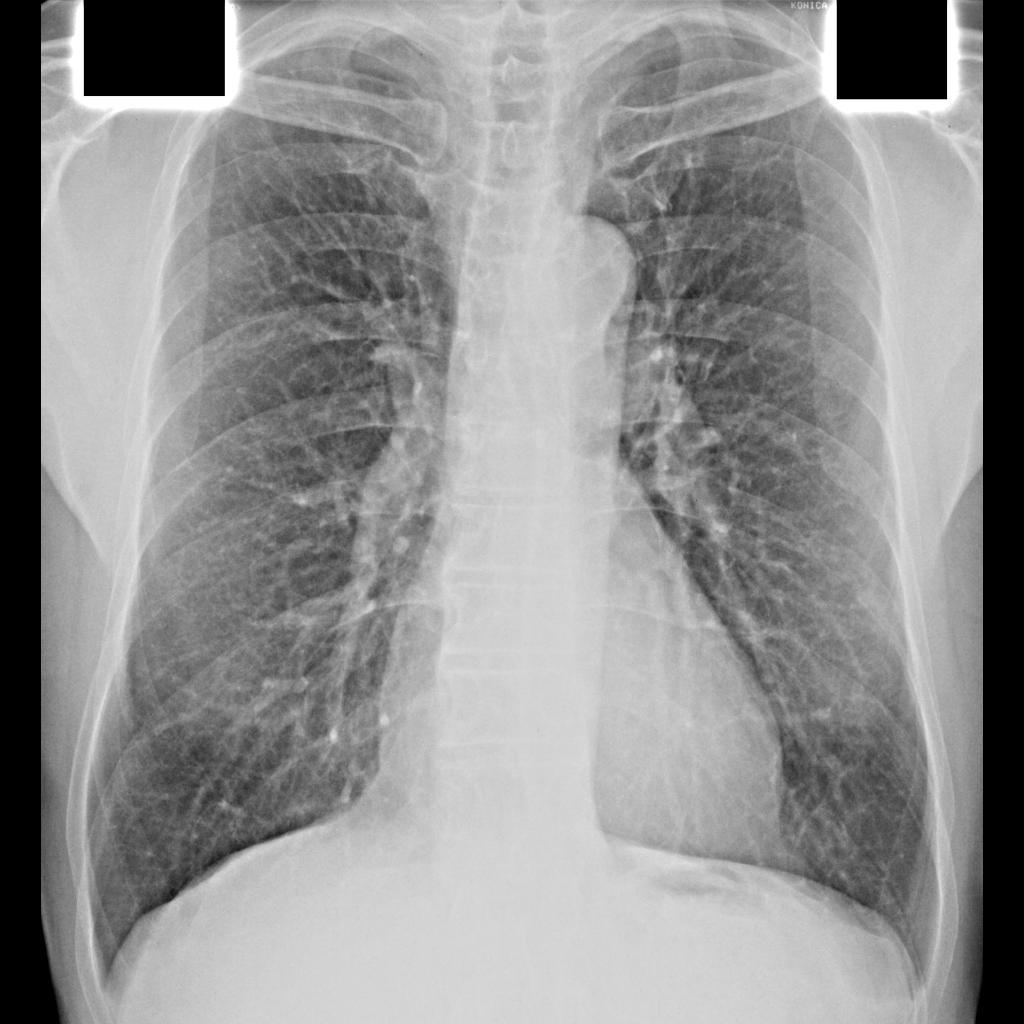Nodule: (868, 584, 901, 617)
